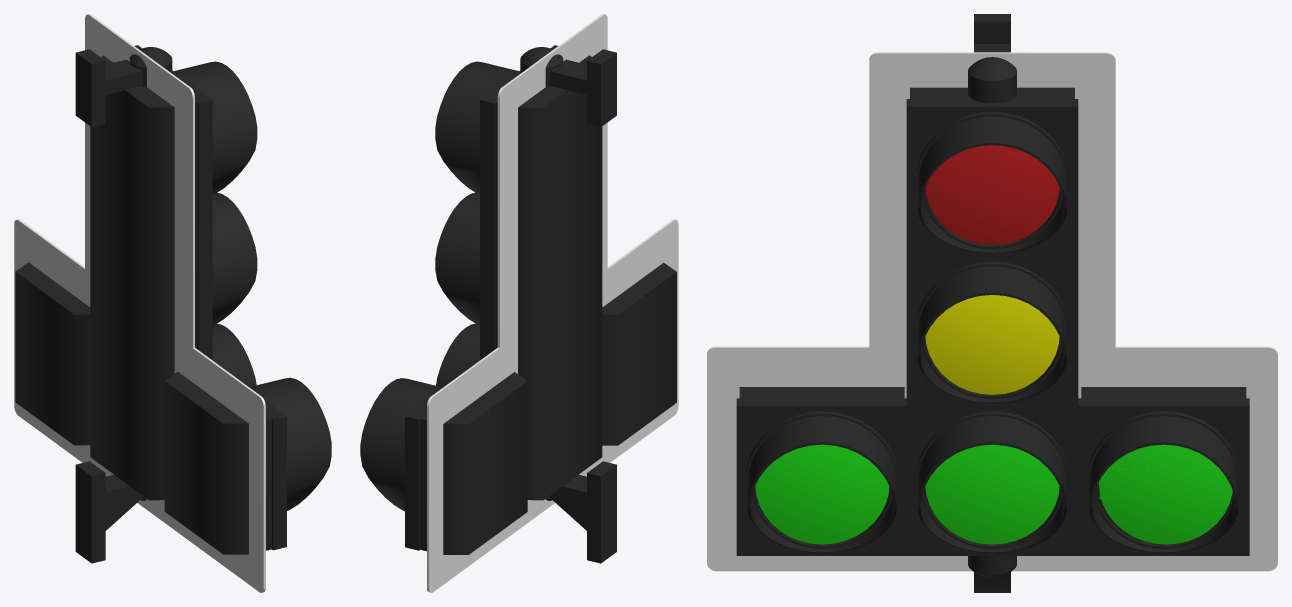
Rendered from model_trafficLight (4).FBX.
The picture shows the model from 3 angles, left to right: view 1: azimuth 30°, elevation 25°; view 2: azimuth 150°, elevation 25°; view 3: azimuth 270°, elevation 25°; orthographic projection. The views are drawn at different scales.
Visible parts, largest first — view 1: Svetofor, Ekran; view 2: Svetofor, Ekran; view 3: Svetofor, Ekran, 3, 2, 1, 004, 005, L, R.
Boxes of the visible parts, <box> form: Svetofor: <box>15,45,331,563</box>; Ekran: <box>14,14,265,592</box>; Svetofor: <box>360,45,676,563</box>; Ekran: <box>427,14,678,592</box>; Svetofor: <box>736,14,1249,592</box>; Ekran: <box>707,52,1277,571</box>; 3: <box>925,145,1059,244</box>; 2: <box>925,295,1059,394</box>; 1: <box>925,444,1059,544</box>; 004: <box>1098,444,1232,544</box>; 005: <box>755,444,889,544</box>; L: <box>756,450,822,520</box>; R: <box>1099,468,1164,501</box>.
Size of the model in its own units: 15.86 by 52.72 by 47.76.
